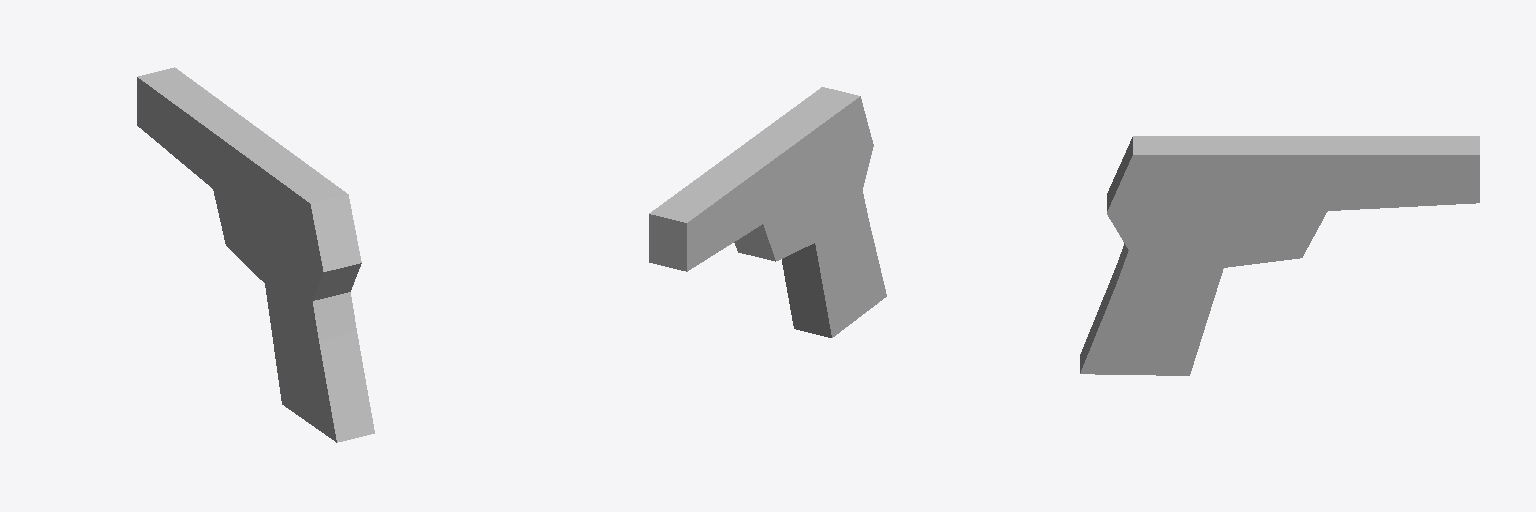
Rendered from Gun.obj.
3 views of the same model, side by side, from view 1: azimuth 30°, elevation 25°; view 2: azimuth 150°, elevation 25°; view 3: azimuth 270°, elevation 25° (orthographic).
Parts seen in each view (by area): view 1: Gun_Cube.018; view 2: Gun_Cube.018; view 3: Gun_Cube.018.
Boxes of the visible parts, <box> form: Gun_Cube.018: <box>137,67,374,442</box>; Gun_Cube.018: <box>649,87,886,337</box>; Gun_Cube.018: <box>1080,136,1479,375</box>.
Size of the model in its own units: 0.0264 by 0.1463 by 0.2397.